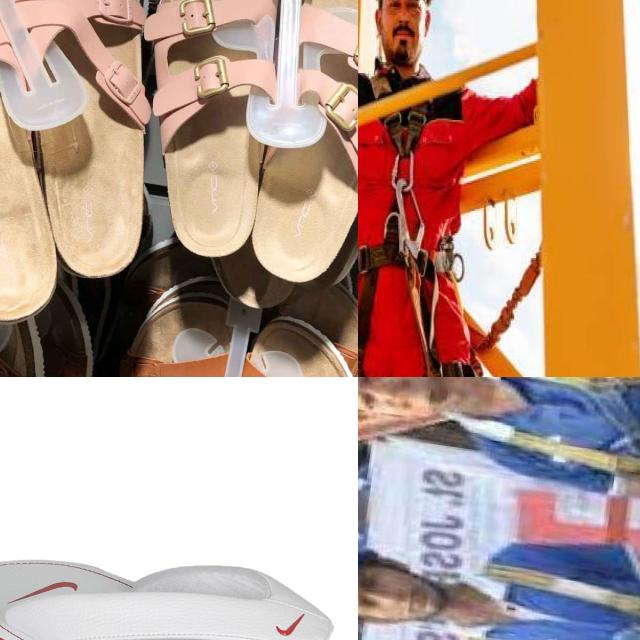Harness: (358, 59, 480, 377), (416, 377, 640, 502), (458, 560, 640, 640)
Sandals: (112, 0, 358, 293), (0, 0, 161, 334), (0, 557, 358, 640)
